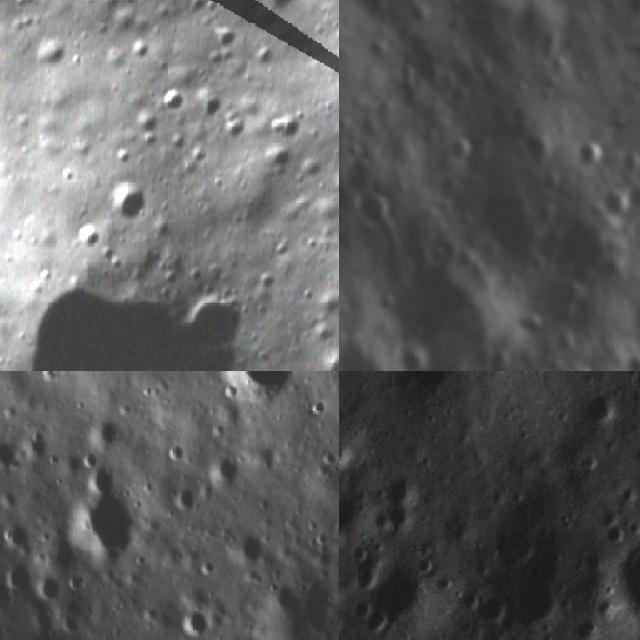crater: (395, 247, 508, 371), (64, 473, 136, 560), (556, 202, 618, 298), (204, 371, 298, 413), (373, 560, 432, 626), (366, 464, 422, 532), (99, 170, 151, 226), (609, 530, 640, 610), (389, 371, 483, 395), (172, 600, 222, 640), (227, 522, 270, 567), (86, 415, 134, 454), (154, 79, 198, 120), (16, 419, 54, 463), (478, 585, 518, 625), (581, 388, 619, 430), (339, 392, 360, 465), (209, 448, 248, 487), (441, 127, 479, 165), (525, 133, 558, 175), (35, 569, 67, 607), (0, 511, 32, 549), (167, 480, 201, 515), (395, 340, 432, 371), (568, 142, 610, 169), (74, 220, 110, 250), (1, 556, 32, 590), (620, 344, 640, 371), (478, 626, 504, 640)
